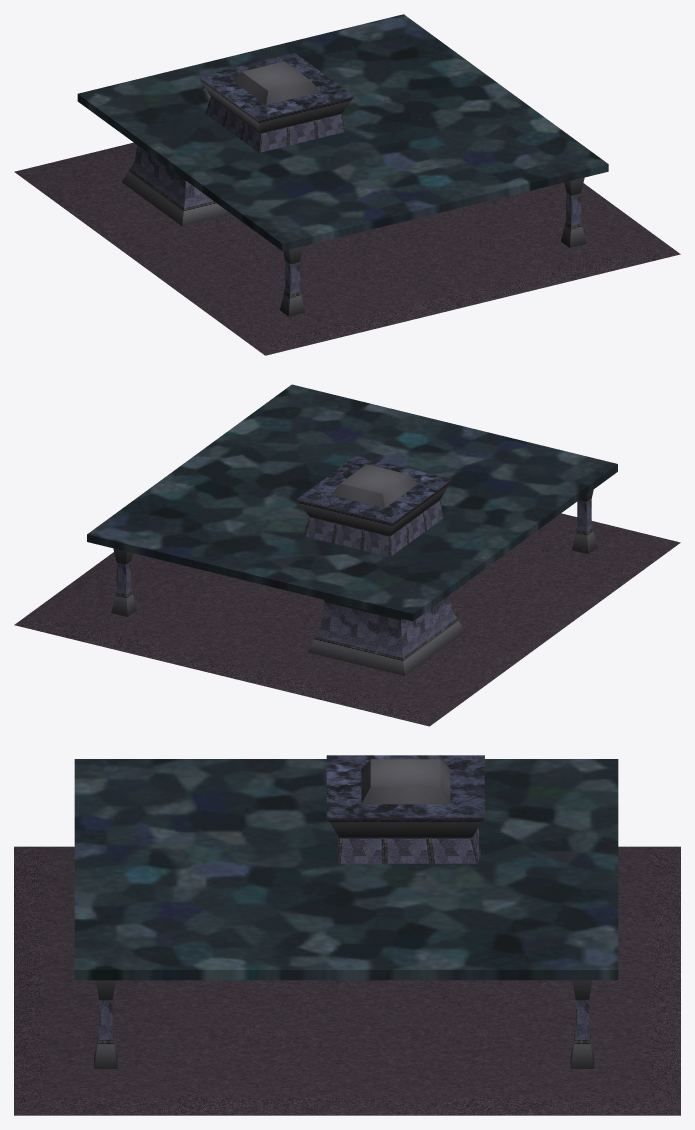
File: stat_40m.DAE
The picture shows the model from 3 angles, top to bottom: view 1: azimuth 30°, elevation 25°; view 2: azimuth 150°, elevation 25°; view 3: azimuth 270°, elevation 25°; orthographic projection. The views are drawn at different scales.
Visible parts, largest first — view 1: Box07; view 2: Box07; view 3: Box07.
Boxes of the visible parts, x1,y1,x2,y2 form: Box07: (14, 14, 680, 355); Box07: (14, 384, 680, 726); Box07: (14, 755, 680, 1115).
Bounding box in the file's own units: 46.93 × 14.33 × 49.15.
